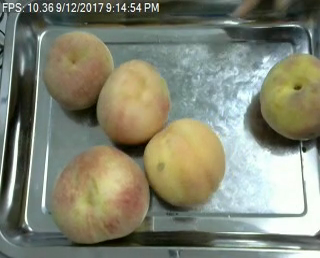Peach: (50, 144, 149, 243), (143, 117, 226, 207), (96, 60, 171, 144), (41, 30, 115, 111), (258, 53, 320, 141)
